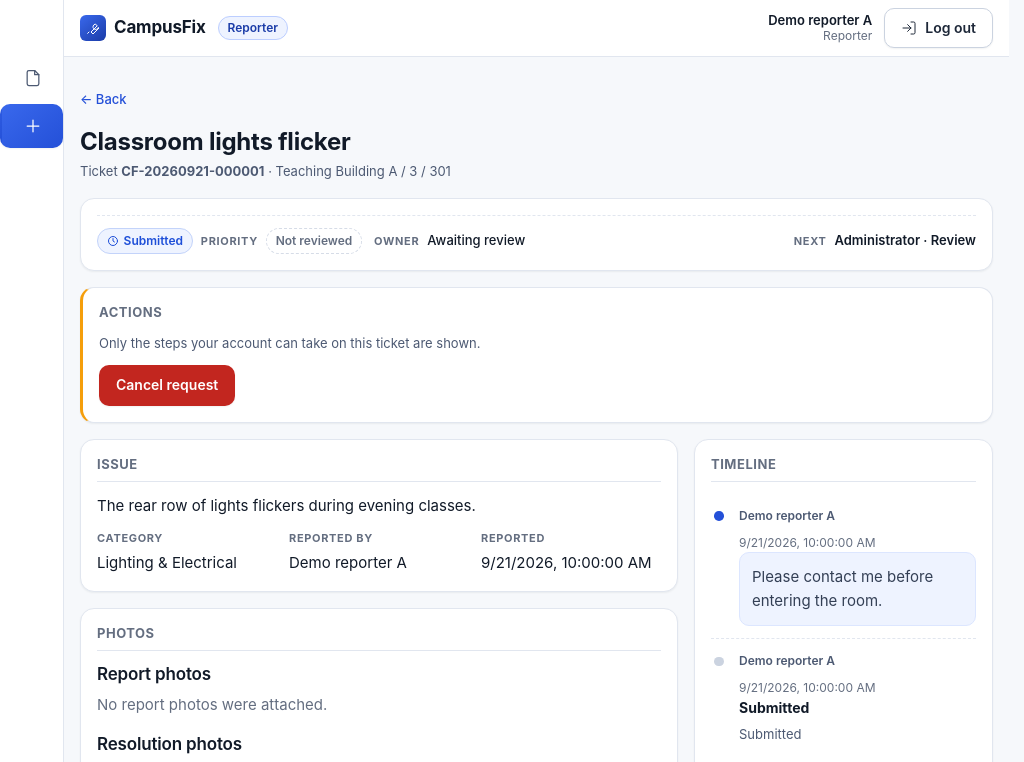
ticket detail page (#91) › runs a state action through the shared dialog and refreshes the ticket
Click the button "Cancel request".
click(167, 386)  # box top-left (99, 365), bottom-right (235, 406)
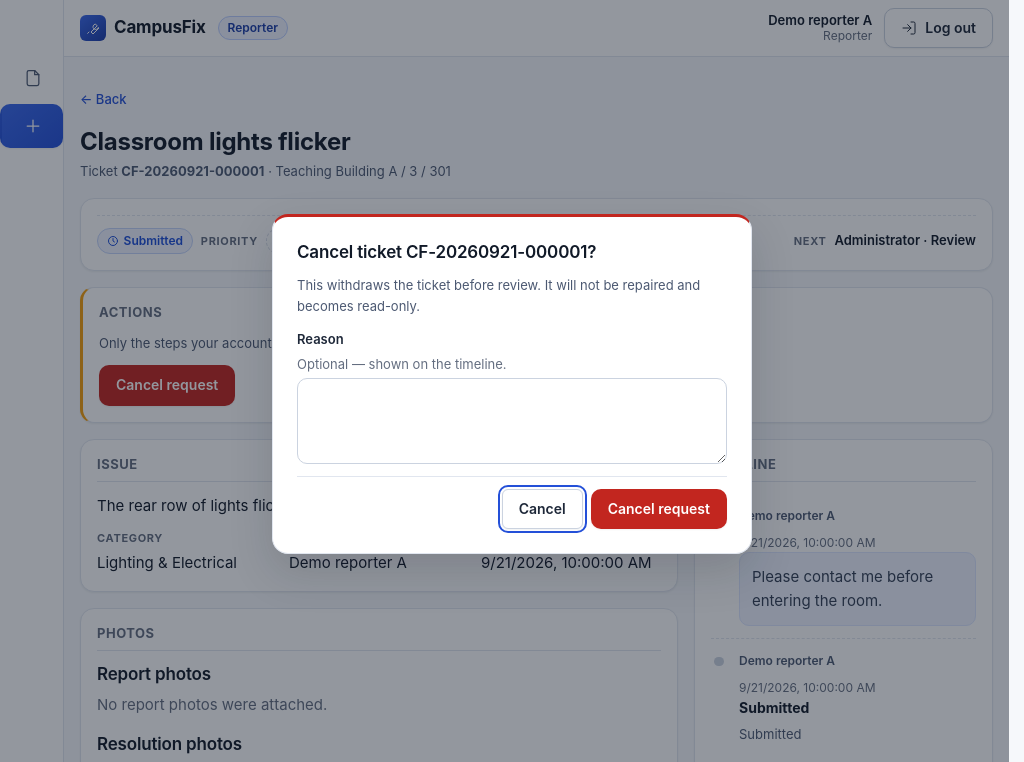
Click the button "Cancel request".
click(659, 509)  # box top-left (591, 488), bottom-right (727, 529)
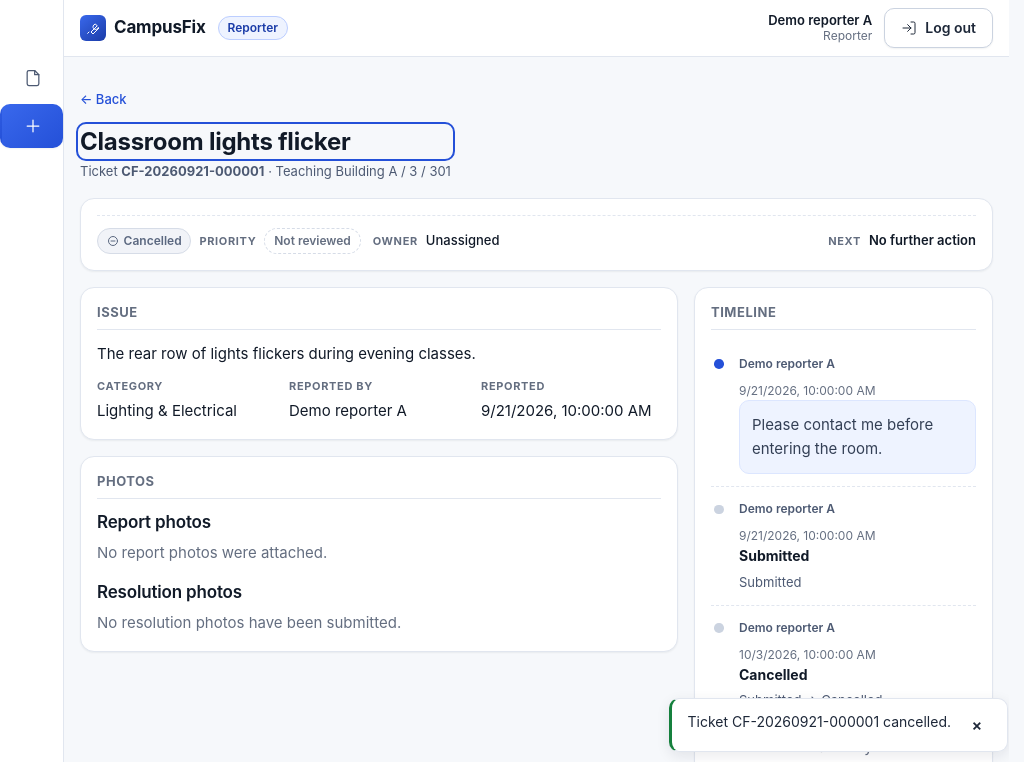
expect the element named "Ticket status and responsibility" shows "Cancelled": met, box top-left (124, 233), bottom-right (182, 248)
expect the element named "Ticket status and responsibility" shows "No further action": met, box top-left (869, 232), bottom-right (976, 248)
expect the button "Cancel request" is gone: met
